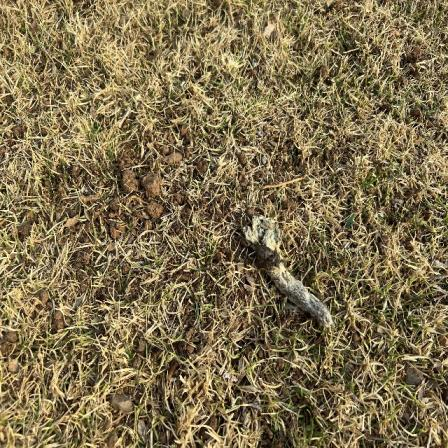dog-poop: (226, 206, 344, 344)
